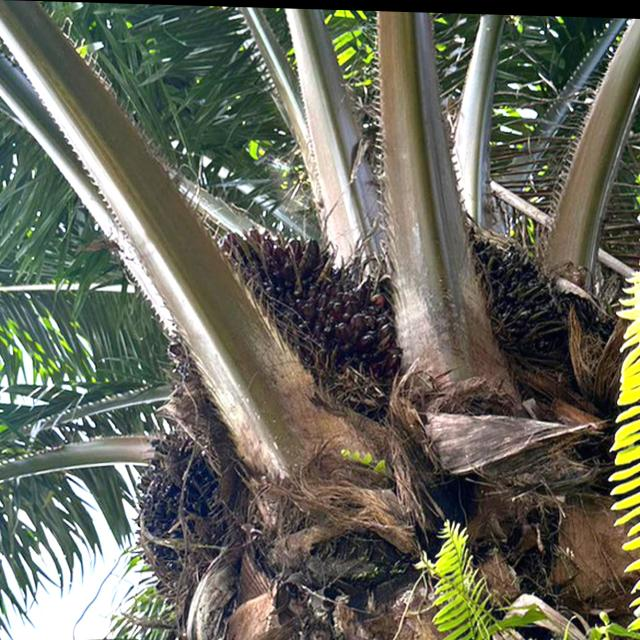ripe: (200, 207, 410, 417)
